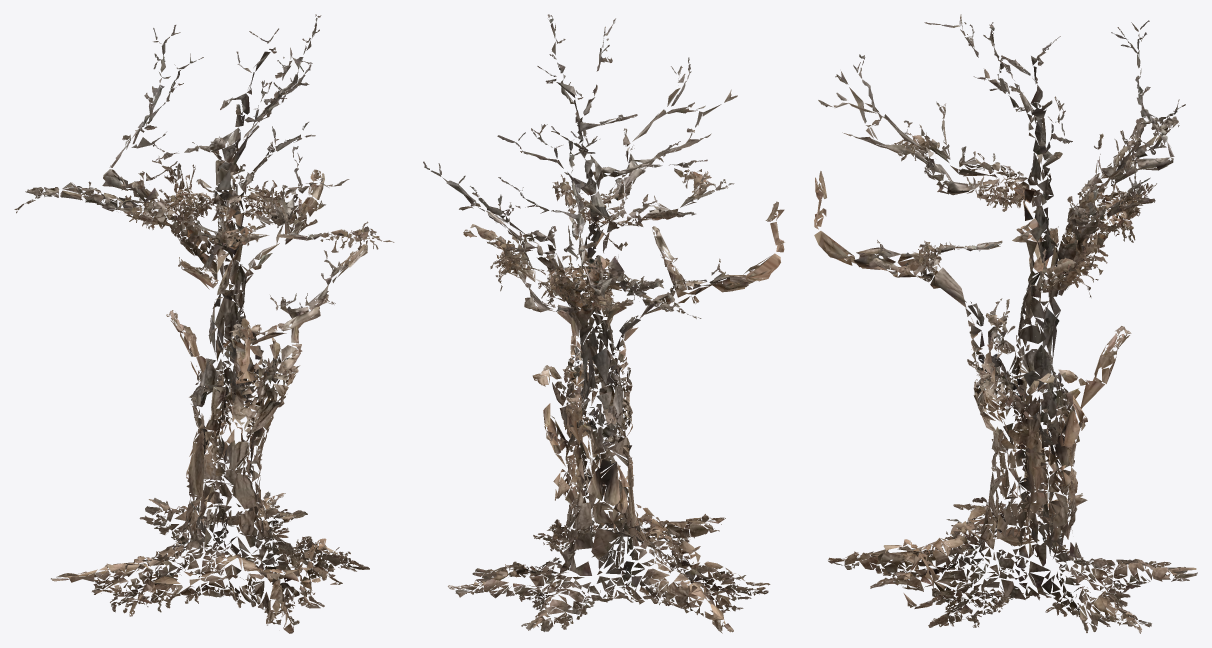
File: tree-gnarled.glb
The picture shows the model from 3 angles, left to right: view 1: azimuth 30°, elevation 25°; view 2: azimuth 150°, elevation 25°; view 3: azimuth 270°, elevation 25°; orthographic projection. The views are drawn at different scales.
Parts seen in each view (by area): view 1: tree-gnarled-fixed; view 2: tree-gnarled-fixed; view 3: tree-gnarled-fixed.
Part boxes in pixels (x1,y1,x2,y2): tree-gnarled-fixed: [14, 14, 394, 633]; tree-gnarled-fixed: [423, 14, 784, 633]; tree-gnarled-fixed: [814, 14, 1197, 633].
Size of the model in its own units: 6.69 by 12.12 by 7.02.
Materials: 1 (1 with a texture image).
